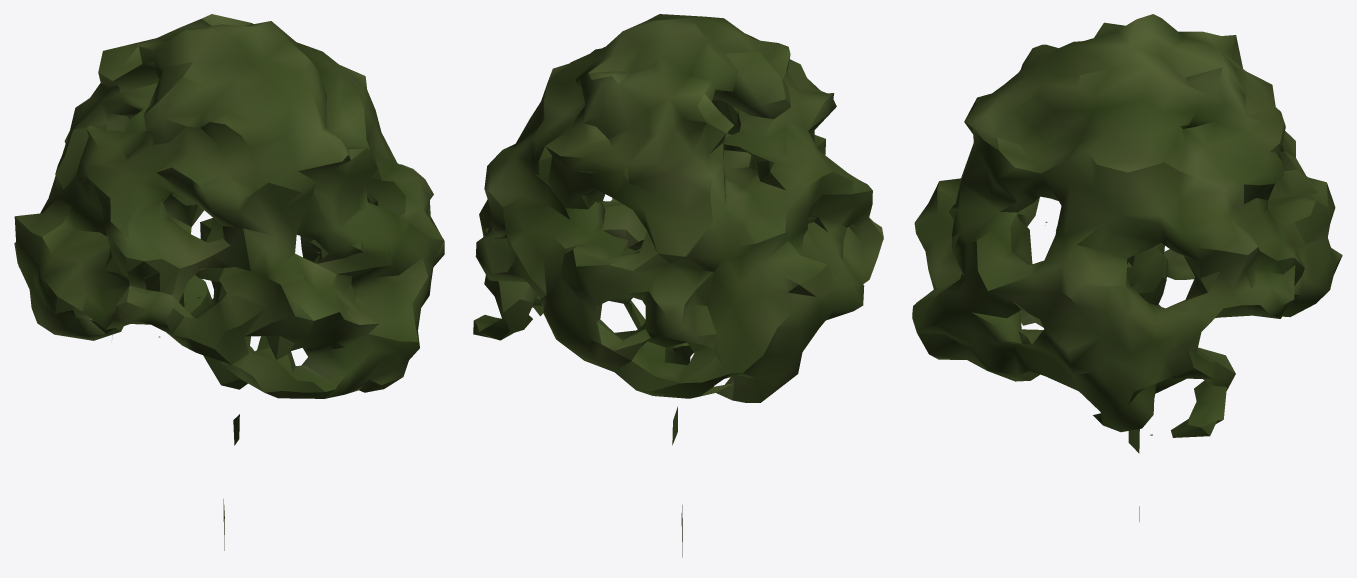
Rendered from tree.glb.
3 views of the same model, side by side, from view 1: azimuth 30°, elevation 25°; view 2: azimuth 150°, elevation 25°; view 3: azimuth 270°, elevation 25° (orthographic).
Visible parts, largest first — view 1: tree; view 2: tree; view 3: tree.
Boxes of the visible parts, x1=… form: tree: x1=14, y1=14, x2=444, y2=550; tree: x1=473, y1=14, x2=883, y2=557; tree: x1=912, y1=14, x2=1342, y2=521.
Size of the model in its own units: 4.33 by 6 by 4.35.
